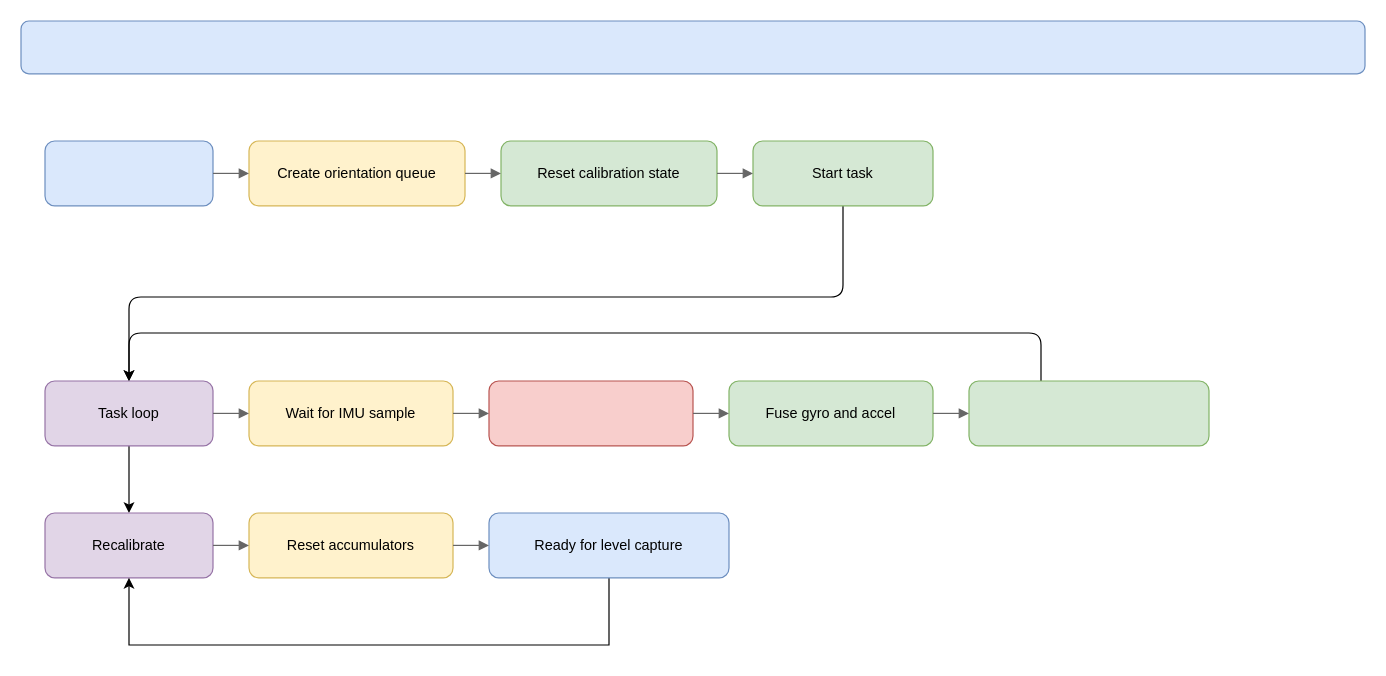
The diagram is 1386 pixels wide and 676 high, and some of its shapes have lost their labels. Each missing label, with the centre of its shape:
"Calibrate zero bias" belongs at point 590,413.
"Overwrite orientation queue" belongs at point 1088,413.
"Start" belongs at point 128,173.
"State Estimator" belongs at point 692,47.
